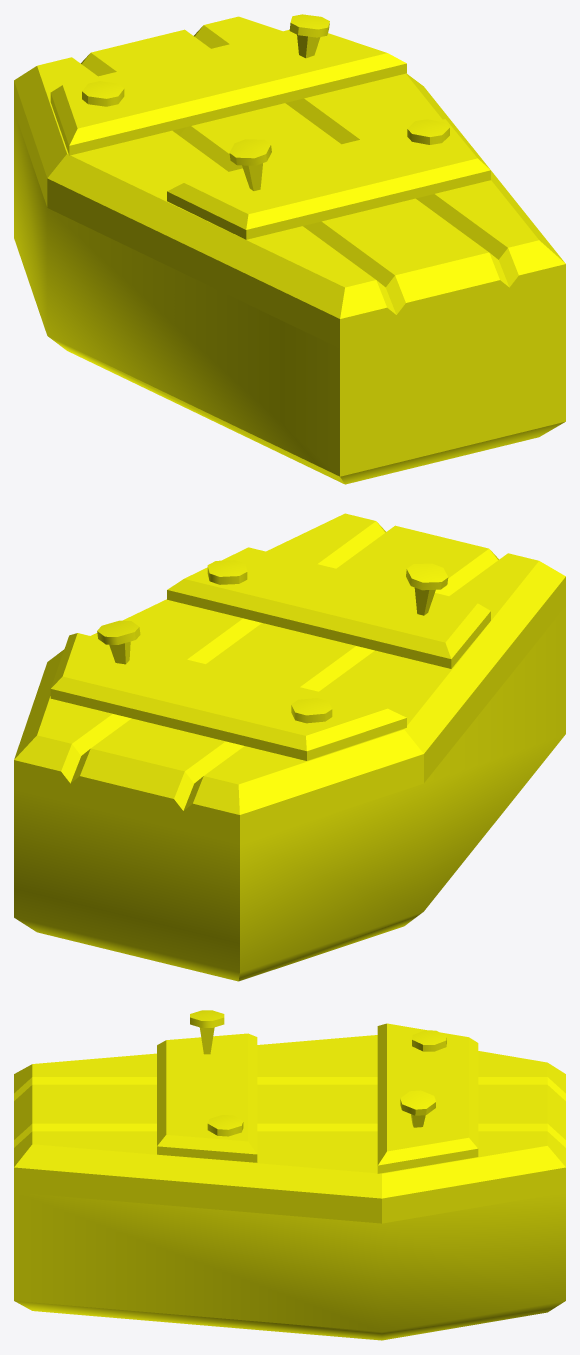
The model's file is kaykit-coffin.glb.
The picture shows the model from 3 angles, top to bottom: view 1: azimuth 30°, elevation 25°; view 2: azimuth 150°, elevation 25°; view 3: azimuth 270°, elevation 25°; orthographic projection. The views are drawn at different scales.
Parts seen in each view (by area): view 1: coffin; view 2: coffin; view 3: coffin.
Part boxes in pixels (x1,y1,x2,y2): coffin: [14, 14, 565, 484]; coffin: [14, 513, 565, 981]; coffin: [14, 1010, 565, 1340].
Size of the model in its own units: 2 by 1.32 by 3.
